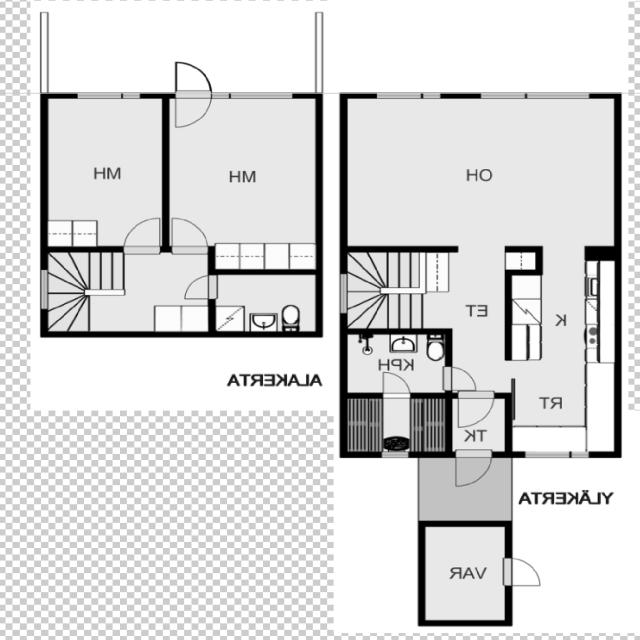door: (343, 336, 450, 396), (360, 352, 428, 399), (169, 59, 214, 129), (343, 396, 384, 452), (120, 213, 165, 255), (166, 213, 212, 254), (451, 450, 494, 489), (500, 556, 547, 590), (454, 392, 496, 429), (441, 364, 481, 394), (179, 274, 218, 304), (378, 370, 414, 401)
window: (343, 98, 621, 248), (478, 89, 594, 103), (218, 87, 296, 103), (72, 88, 145, 102), (33, 265, 51, 315), (372, 90, 446, 102), (520, 449, 587, 461), (335, 269, 350, 315), (378, 449, 414, 461)
zone: (344, 97, 601, 245), (164, 94, 319, 267), (44, 94, 166, 250), (509, 262, 598, 458), (43, 251, 212, 339), (342, 247, 458, 329), (424, 525, 509, 624), (343, 330, 449, 398), (212, 273, 317, 335), (342, 394, 382, 454), (412, 394, 449, 454)
